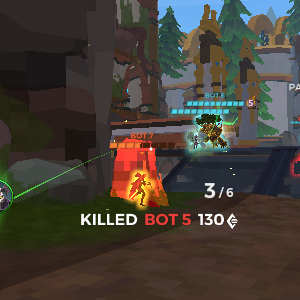model: (130, 168, 147, 206)
